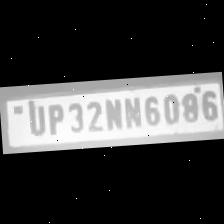0: (158, 90, 180, 124)
2: (82, 96, 104, 132)
3: (62, 97, 84, 132)
6: (139, 91, 161, 126), (198, 87, 219, 121)
8: (177, 88, 200, 122)
N: (100, 94, 122, 130), (120, 92, 140, 128)
P: (42, 99, 64, 134)
U: (23, 100, 45, 136)
